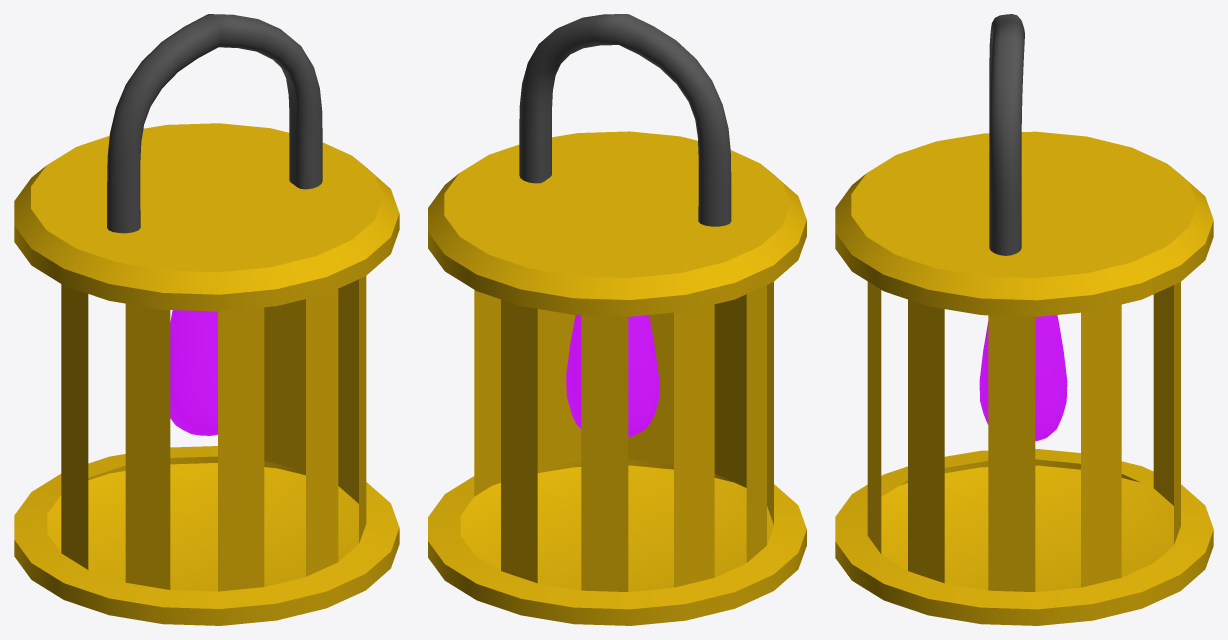
File: Lamp.glb
3 views of the same model, side by side, from view 1: azimuth 30°, elevation 25°; view 2: azimuth 150°, elevation 25°; view 3: azimuth 270°, elevation 25° (orthographic).
Visible parts, largest first — view 1: Cylinder, Cube, Cube.001; view 2: Cylinder, Cube, Cube.001; view 3: Cylinder, Cube, Cube.001.
Part boxes in pixels (x1,y1,x2,y2): Cylinder: (14,123,399,625); Cube: (107,14,322,233); Cube.001: (170,310,217,435); Cylinder: (428,131,806,625); Cube: (519,14,731,226); Cube.001: (566,315,659,437); Cylinder: (835,131,1213,625); Cube: (989,14,1024,255); Cube.001: (979,315,1067,441).
Size of the model in its own units: 0.3743 by 0.5827 by 0.3733.
